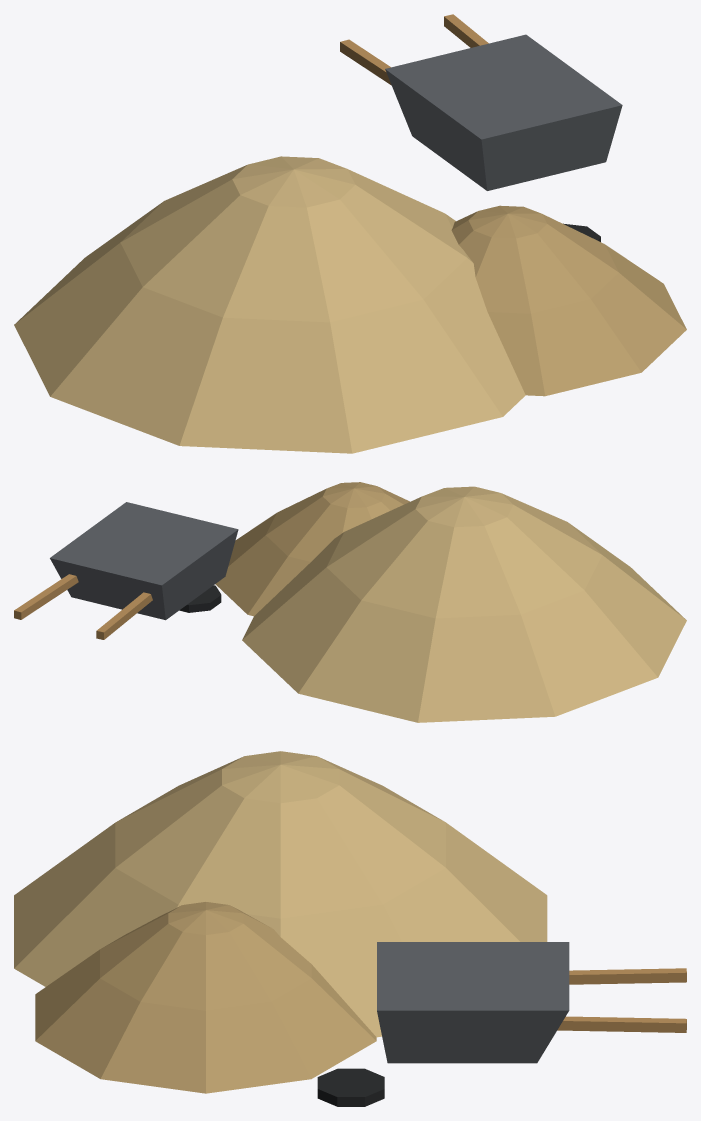
Rendered from con_gravel.glb.
3 renders of one model, top to bottom at view 1: azimuth 30°, elevation 25°; view 2: azimuth 150°, elevation 25°; view 3: azimuth 270°, elevation 25°, orthographic. The views are drawn at different scales.
Visible parts, largest first — view 1: con_gravel; view 2: con_gravel; view 3: con_gravel.
Boxes of the visible parts, x1,y1,x2,y2 form: con_gravel: (14, 14, 686, 453); con_gravel: (14, 482, 686, 722); con_gravel: (14, 751, 686, 1106).
Size of the model in its own units: 3.34 by 0.924 by 3.15.
